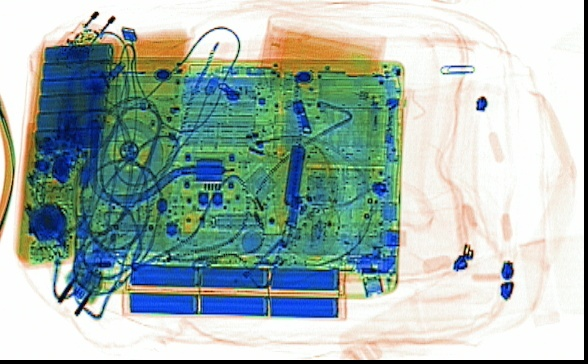powerbank: (30, 38, 114, 154)
